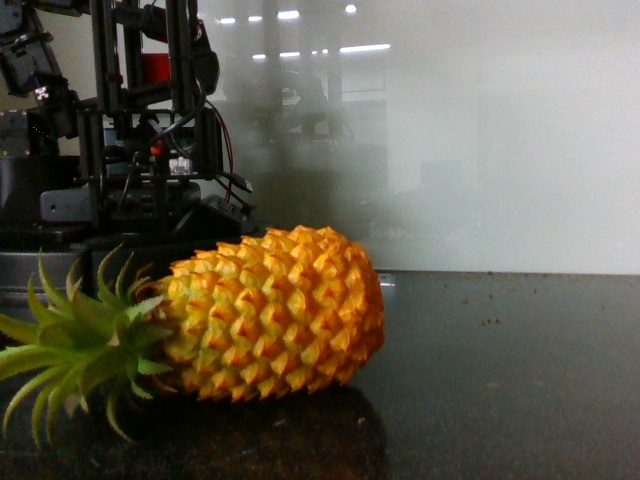pineapple: (4, 221, 388, 439)
